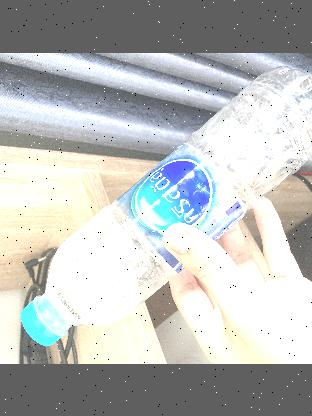Plastic Bottle: (16, 61, 312, 349)
